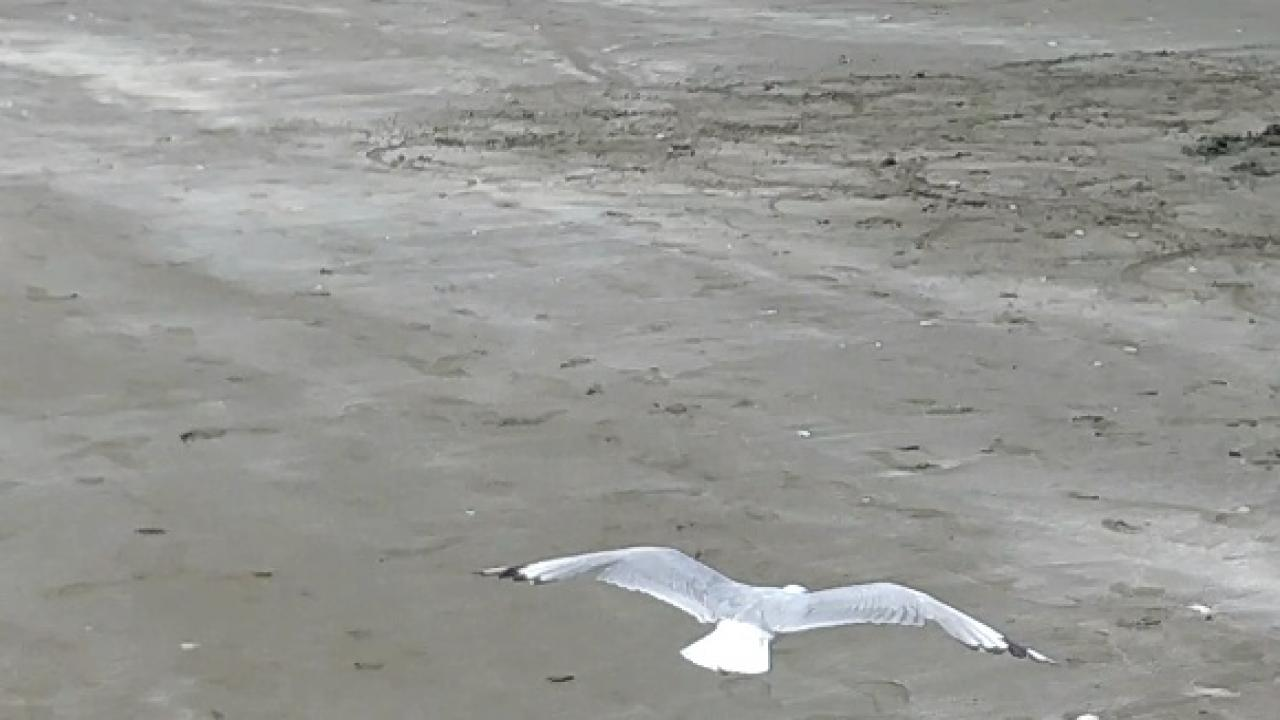Bird: (470, 536, 1064, 692)
